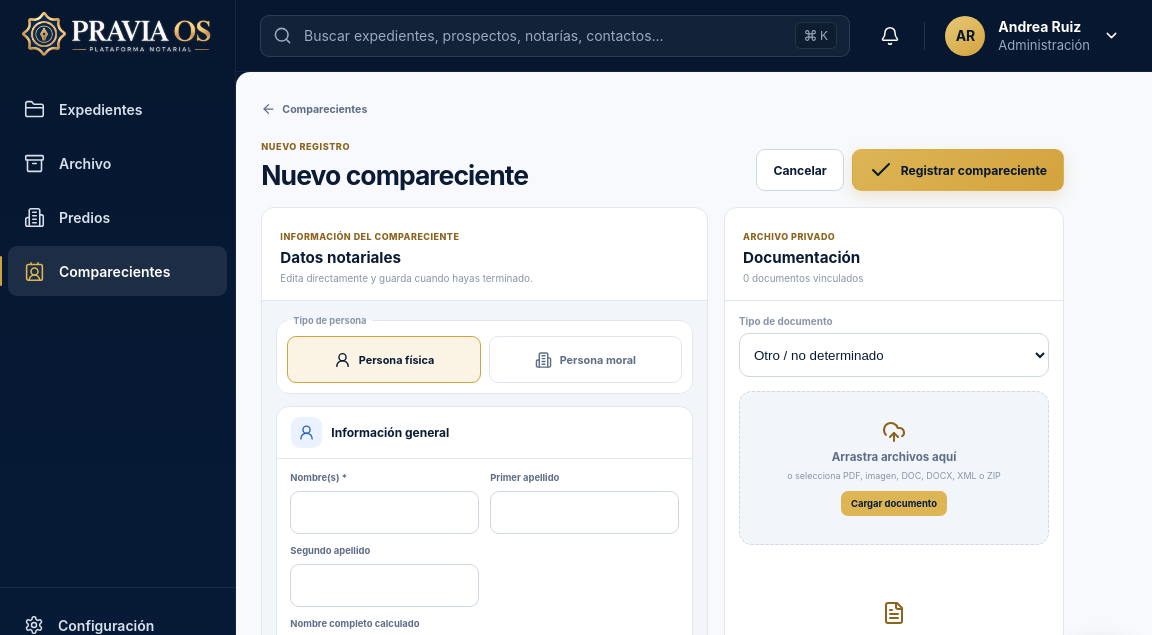
Test: Comparecientes client workspace › adapta el mismo formulario a Persona moral sin campos inventados
Click the button "Persona moral" at (585, 360), box [489,336,682,383]
(page scrolled)
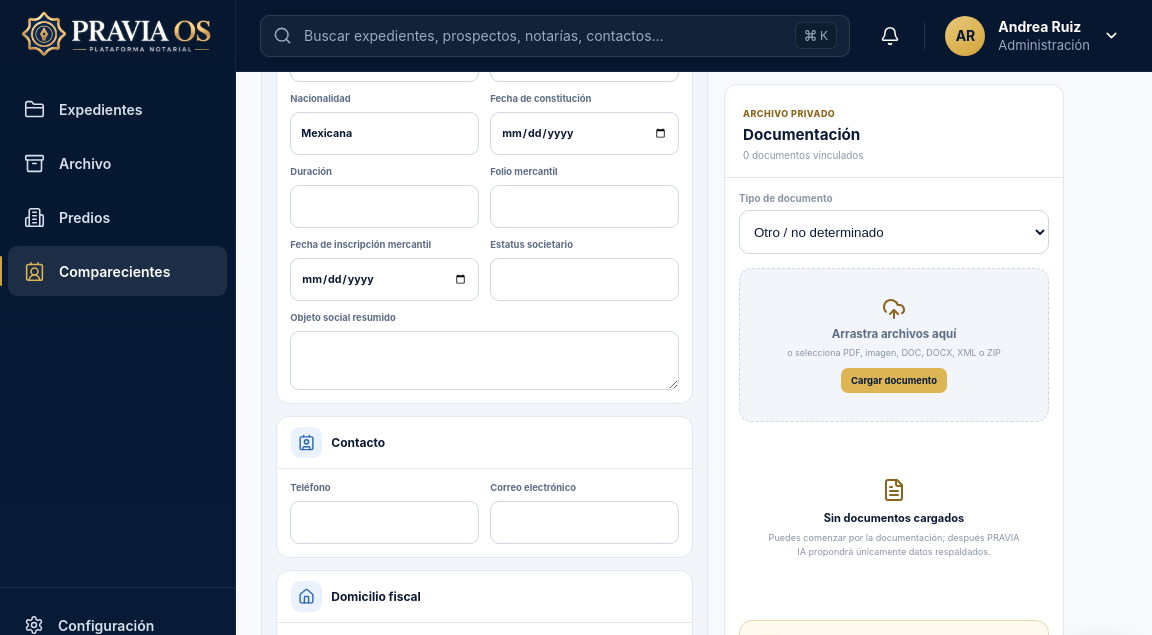
expect the field labelled "Folio mercantil" is shown: met, box [490,185,679,228]
expect the text box labelled "Objeto social resumido" is shown: met, box [290,331,679,390]
